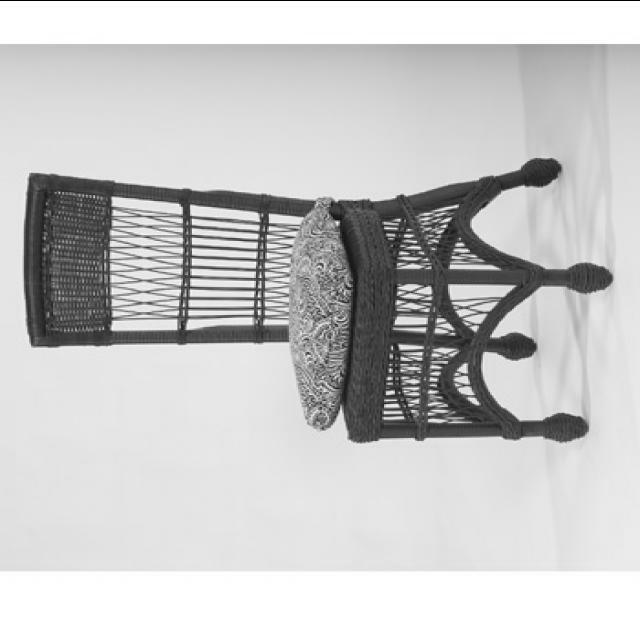chair: (18, 153, 614, 444)
